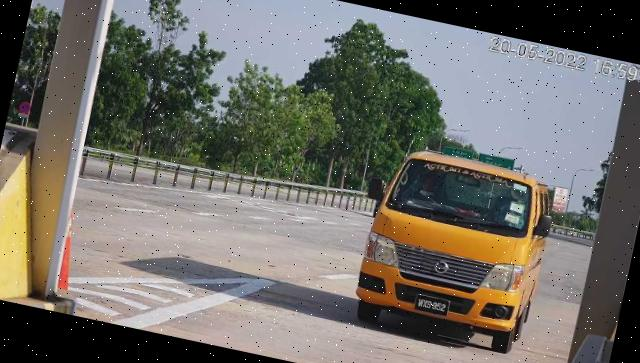License_Plate: (415, 294, 451, 318)
van: (351, 143, 560, 358)
